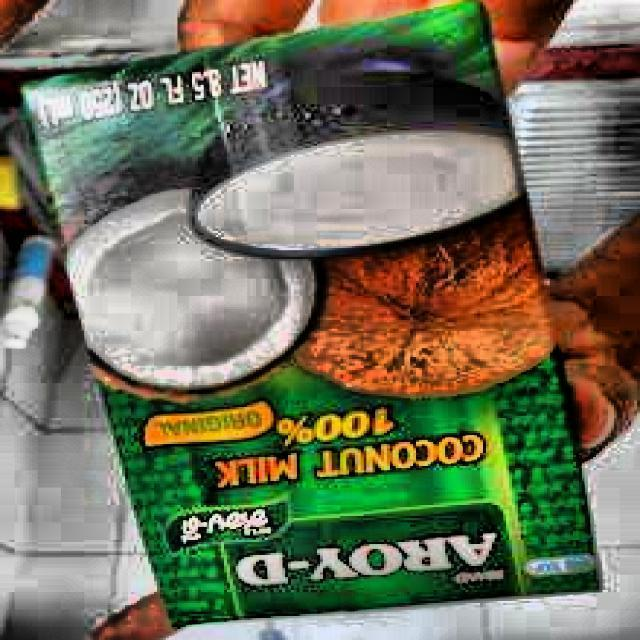cardboard: (14, 2, 608, 638)
